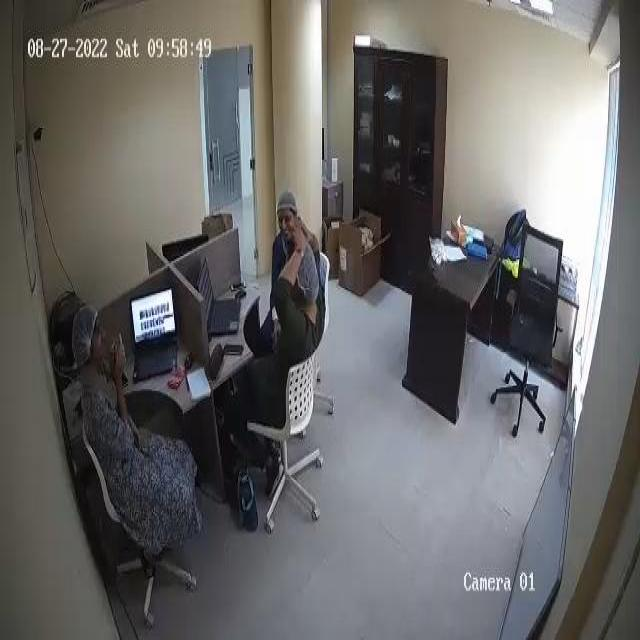hairnet: (290, 246, 318, 304), (72, 302, 96, 363), (274, 193, 297, 216)
